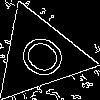O: (14, 30, 78, 90)
